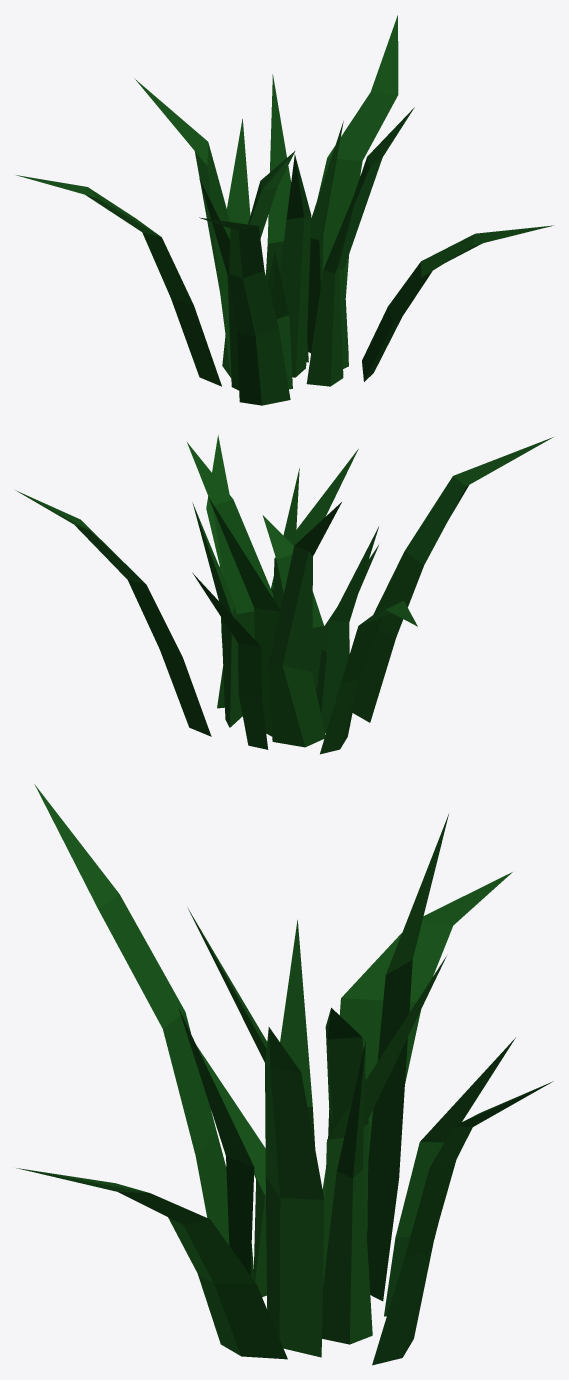
The model's file is folliage17.glb.
The picture shows the model from 3 angles, top to bottom: view 1: azimuth 30°, elevation 25°; view 2: azimuth 150°, elevation 25°; view 3: azimuth 270°, elevation 25°; orthographic projection. The views are drawn at different scales.
Visible parts, largest first — view 1: Cube.007; view 2: Cube.007; view 3: Cube.007.
Part boxes in pixels (left/top/right/bottom): Cube.007: left=16, top=15, right=554, bottom=405; Cube.007: left=15, top=435, right=553, bottom=754; Cube.007: left=16, top=784, right=553, bottom=1365.
Size of the model in its own units: 0.4942 by 0.3381 by 0.3926.
